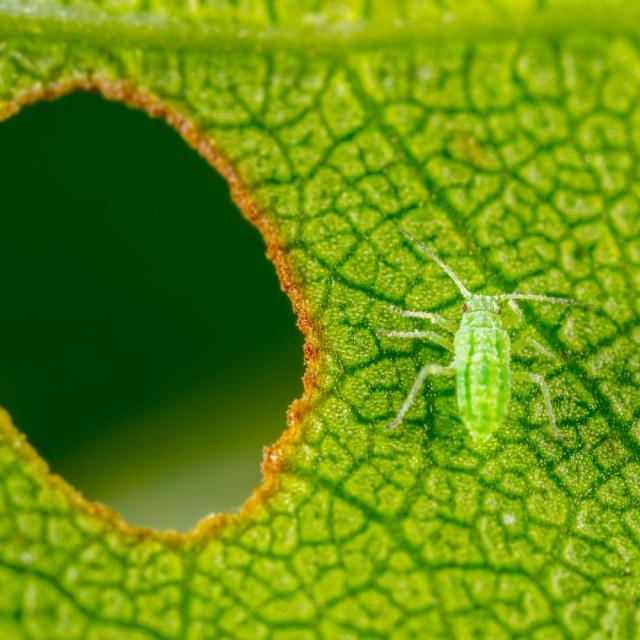Aphids: (3, 67, 330, 571), (368, 208, 592, 454)
